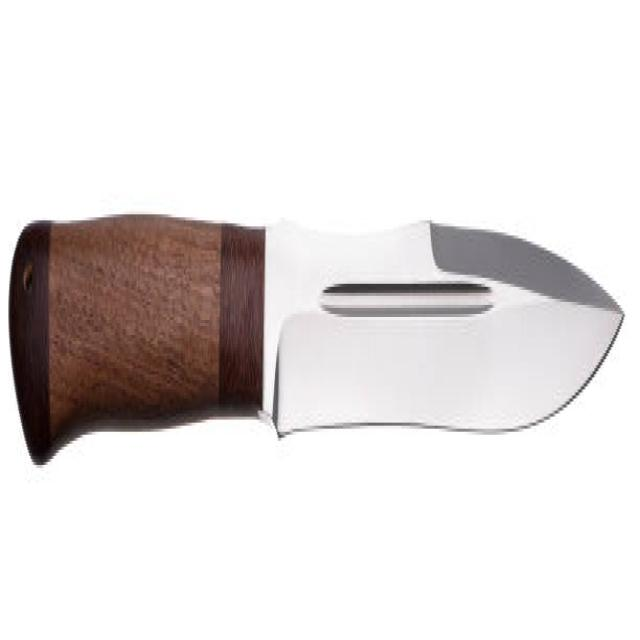knife: (8, 189, 627, 475)
